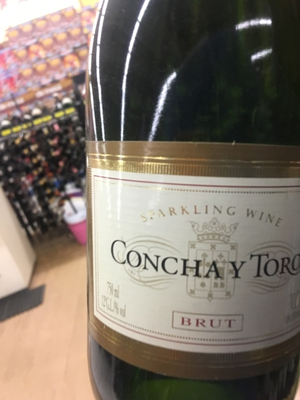brut: (74, 2, 300, 399)
